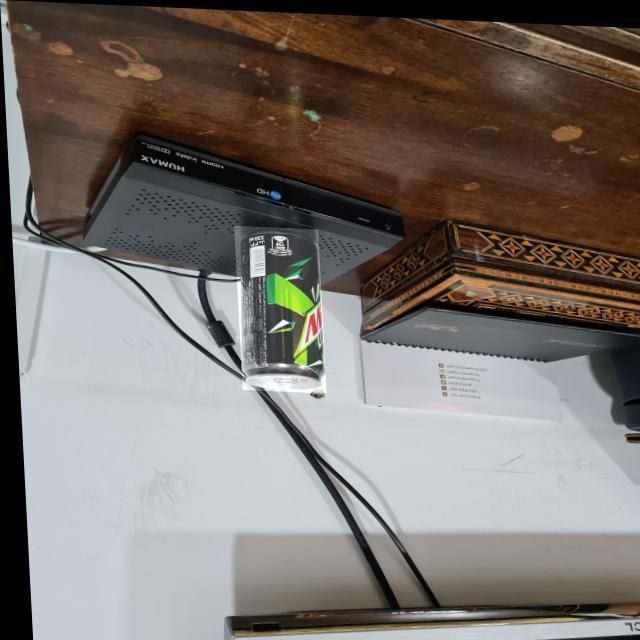trash: (235, 228, 329, 398)
